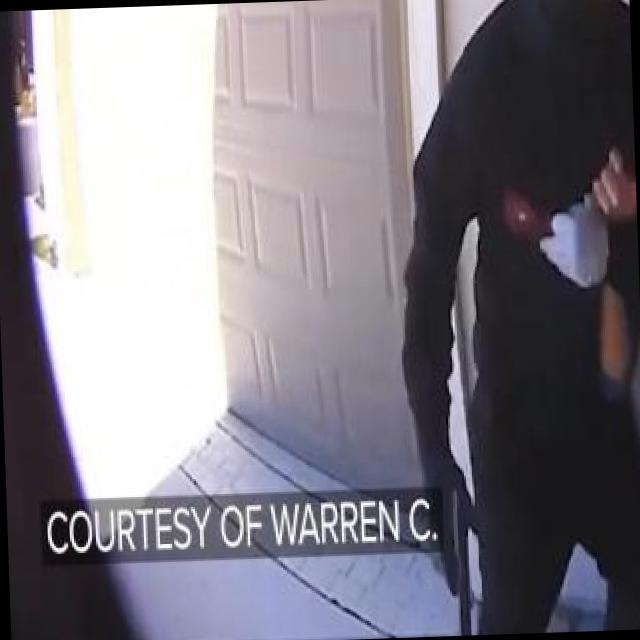Guns: (441, 478, 486, 636)
